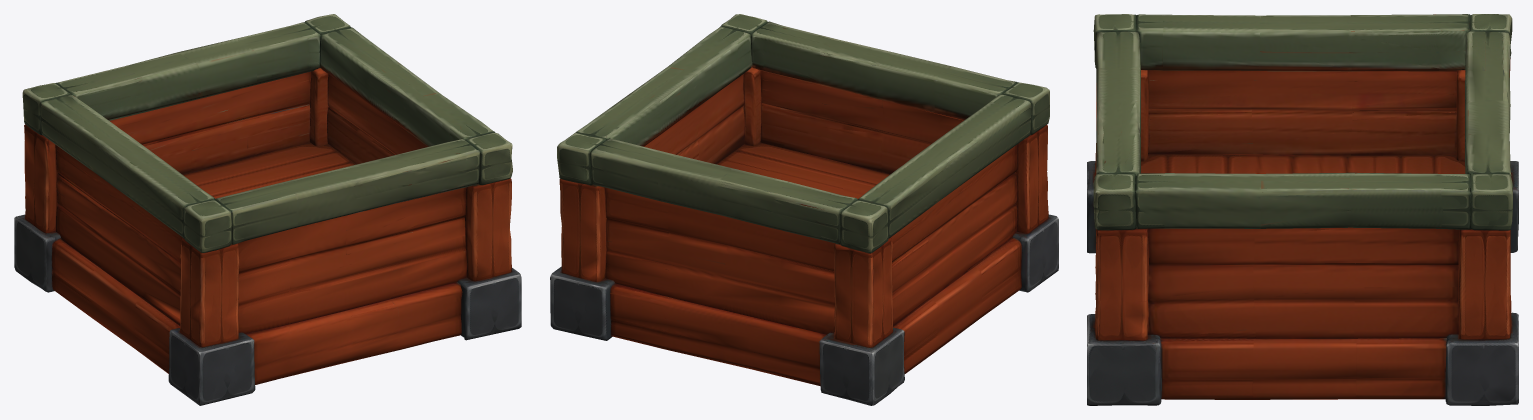
File: Wooden_Planter_Box.fbx
The picture shows the model from 3 angles, left to right: view 1: azimuth 30°, elevation 25°; view 2: azimuth 150°, elevation 25°; view 3: azimuth 270°, elevation 25°; orthographic projection. The views are drawn at different scales.
Parts seen in each view (by area): view 1: mesh_node; view 2: mesh_node; view 3: mesh_node.
Boxes of the visible parts, <box> form: mesh_node: <box>14,14,521,405</box>; mesh_node: <box>550,14,1058,405</box>; mesh_node: <box>1087,14,1518,405</box>.
Bounding box in the file's own units: 100 × 54.88 × 100.
1 material, 1 textured.
